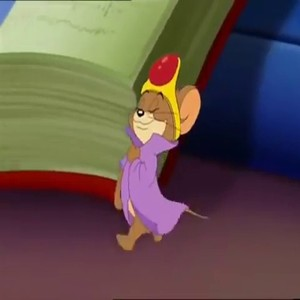Jerry: (109, 54, 200, 255)
